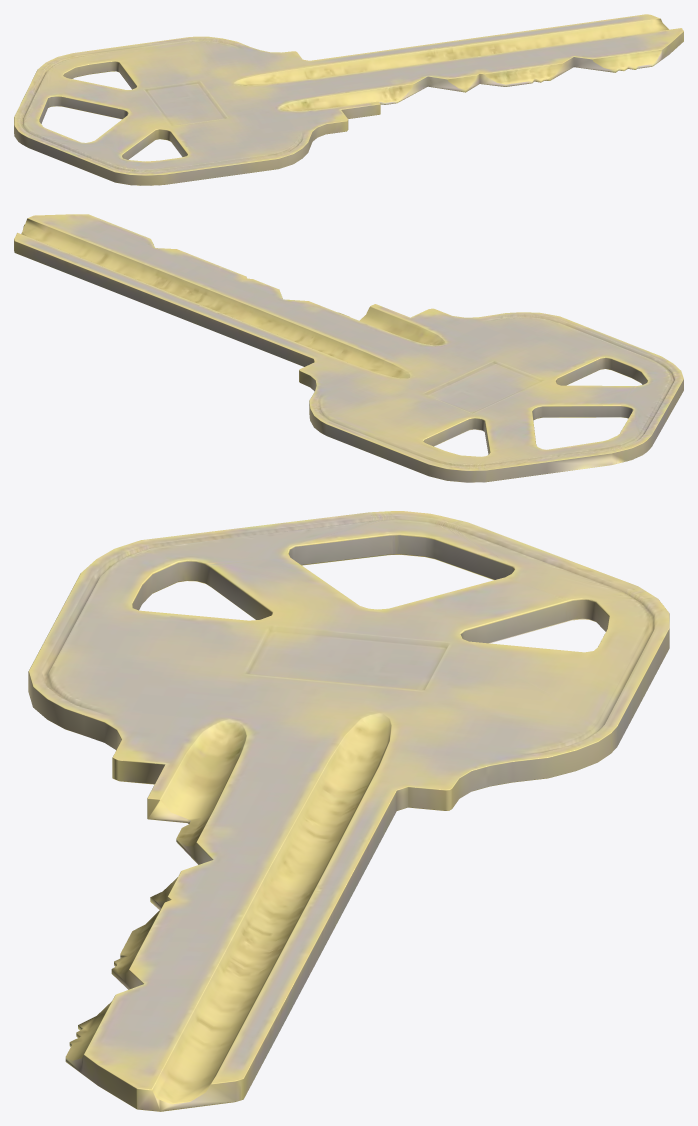
3 views of the same model, one above another, from view 1: azimuth 30°, elevation 25°; view 2: azimuth 150°, elevation 25°; view 3: azimuth 270°, elevation 25° (orthographic). The views are drawn at different scales.
Visible parts, largest first — view 1: Key_002_Lo_Key 002_0; view 2: Key_002_Lo_Key 002_0; view 3: Key_002_Lo_Key 002_0.
Part boxes in pixels (x1=…): Key_002_Lo_Key 002_0: x1=14, y1=14, x2=683, y2=185; Key_002_Lo_Key 002_0: x1=14, y1=214, x2=683, y2=482; Key_002_Lo_Key 002_0: x1=28, y1=511, x2=669, y2=1111.
Size of the model in its own units: 8.8 by 0.1983 by 4.06.
Materials: 1 (1 with a texture image).
